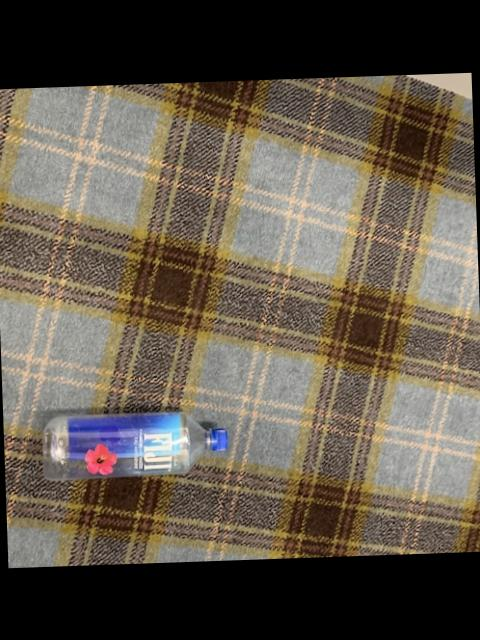plastic: (45, 410, 229, 478)
